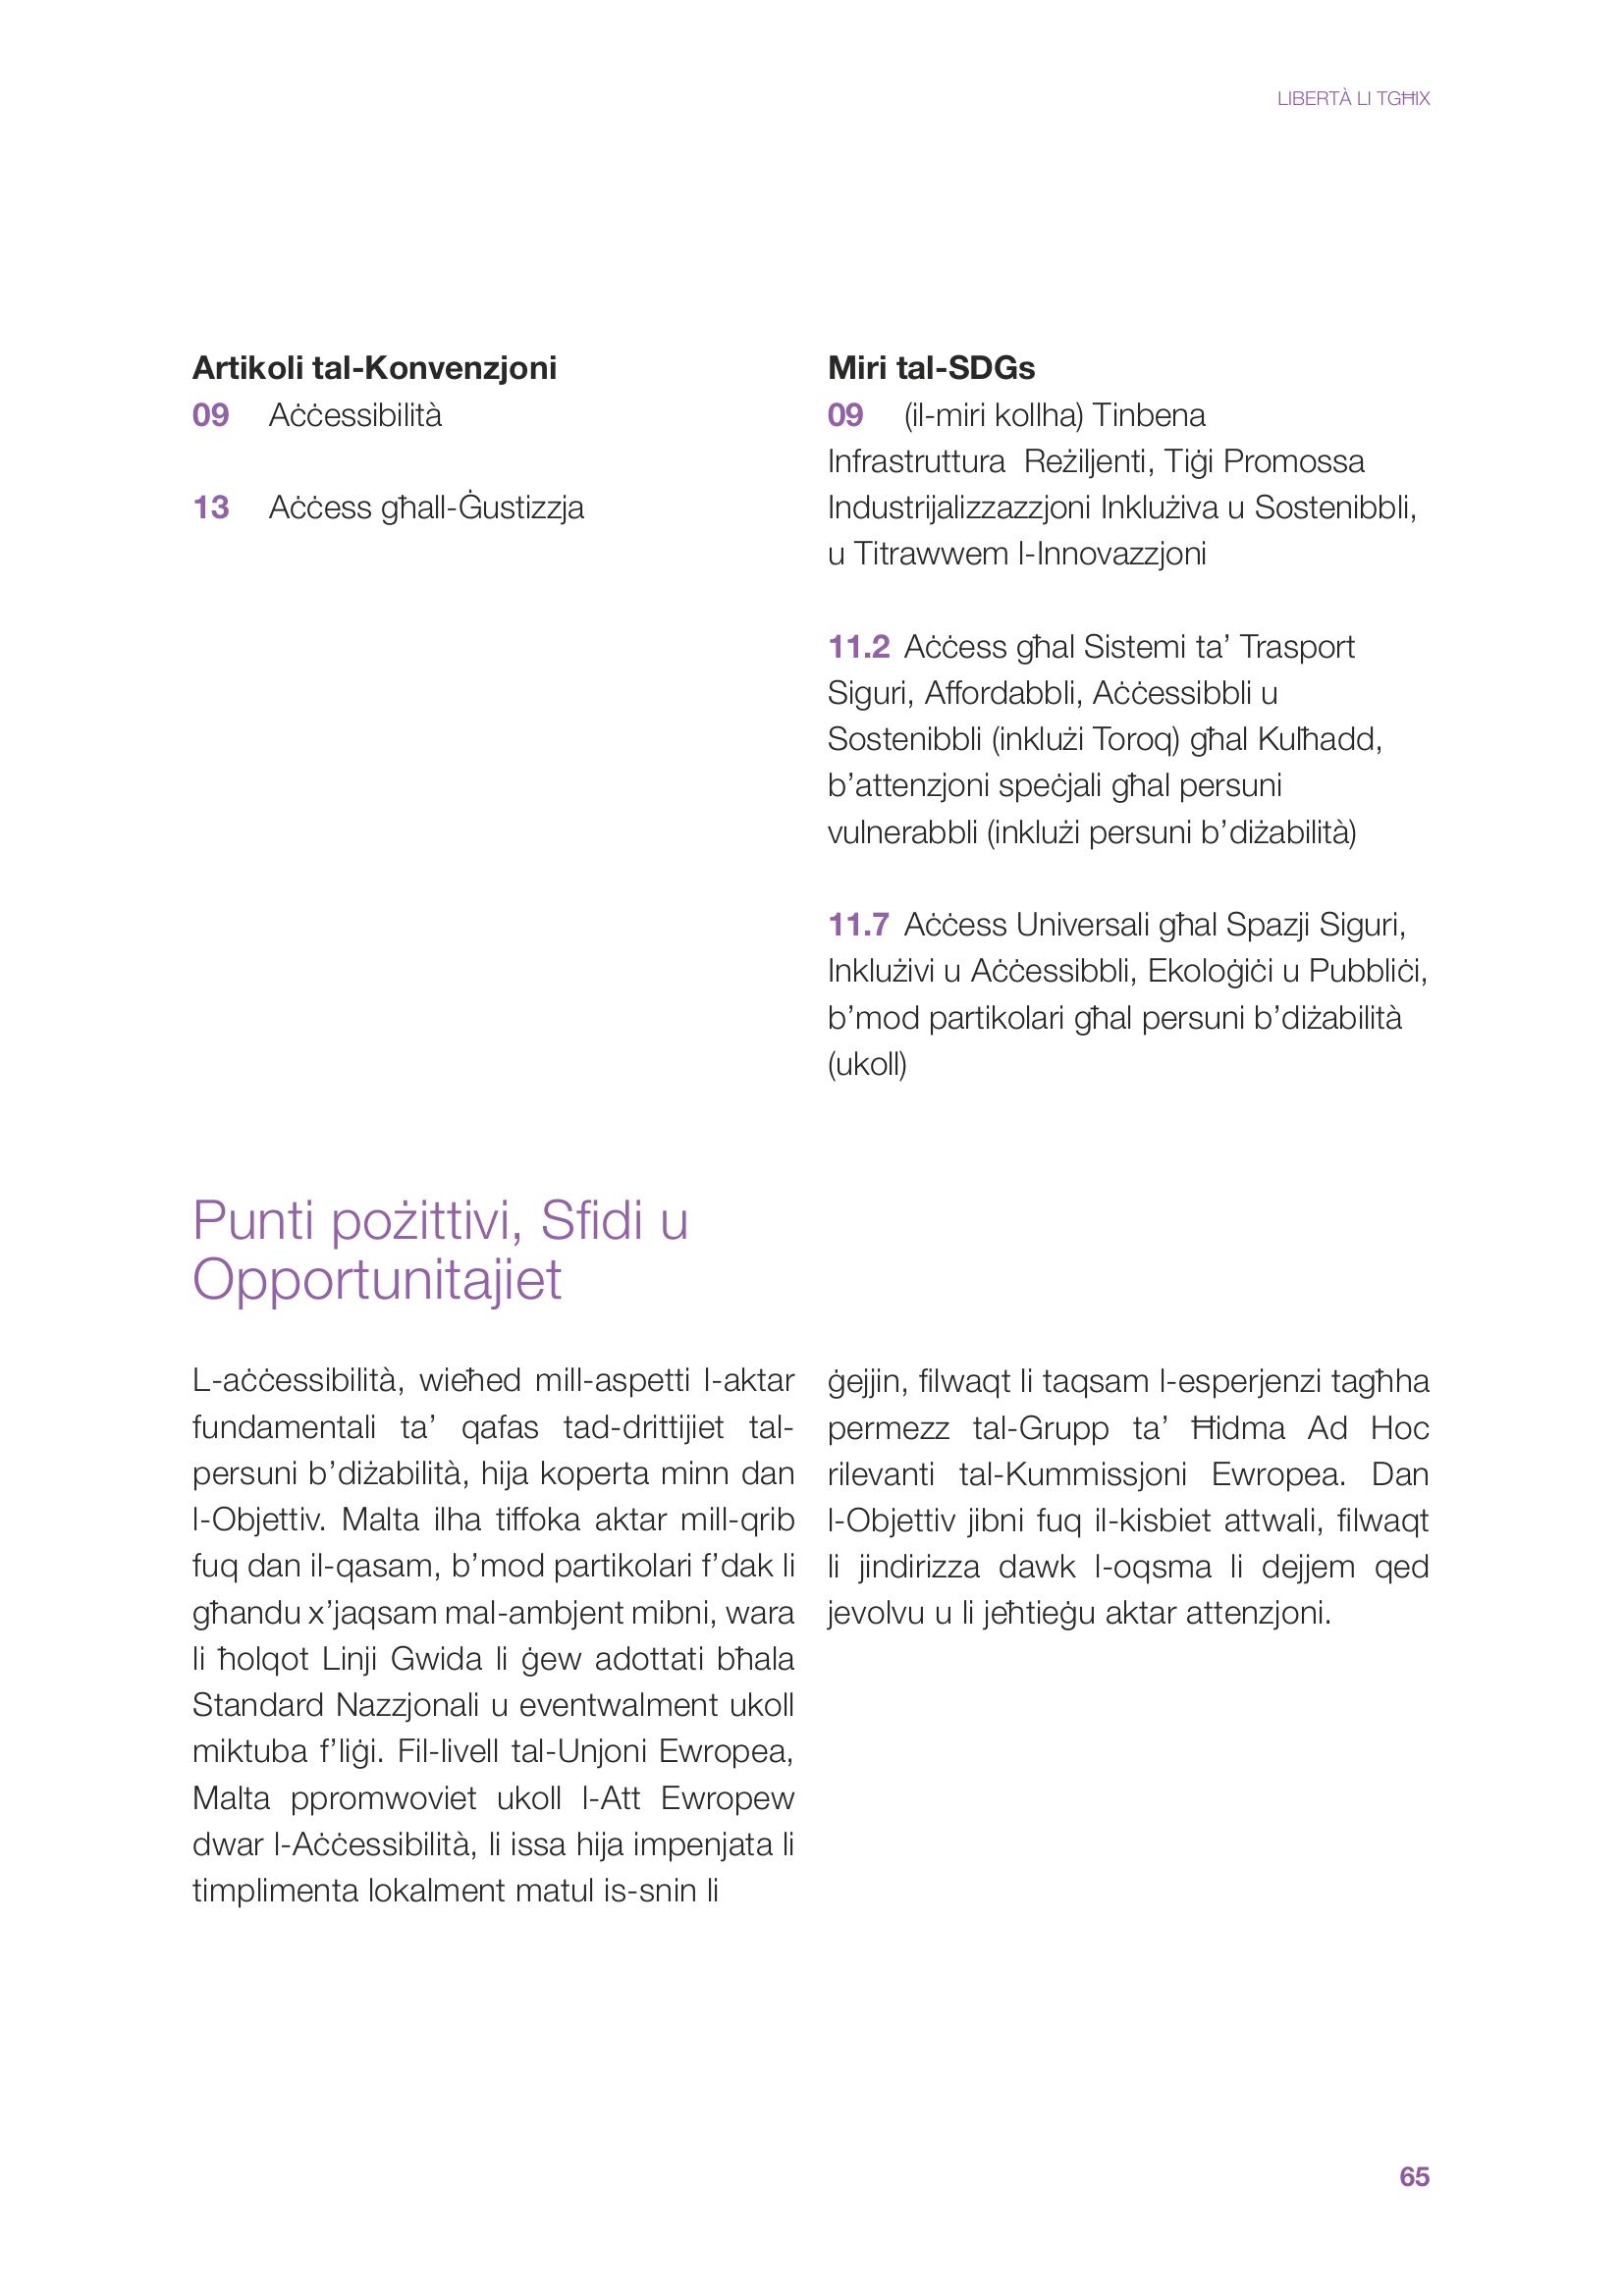text: (174, 1170, 808, 1948), (814, 1337, 1454, 1664)
